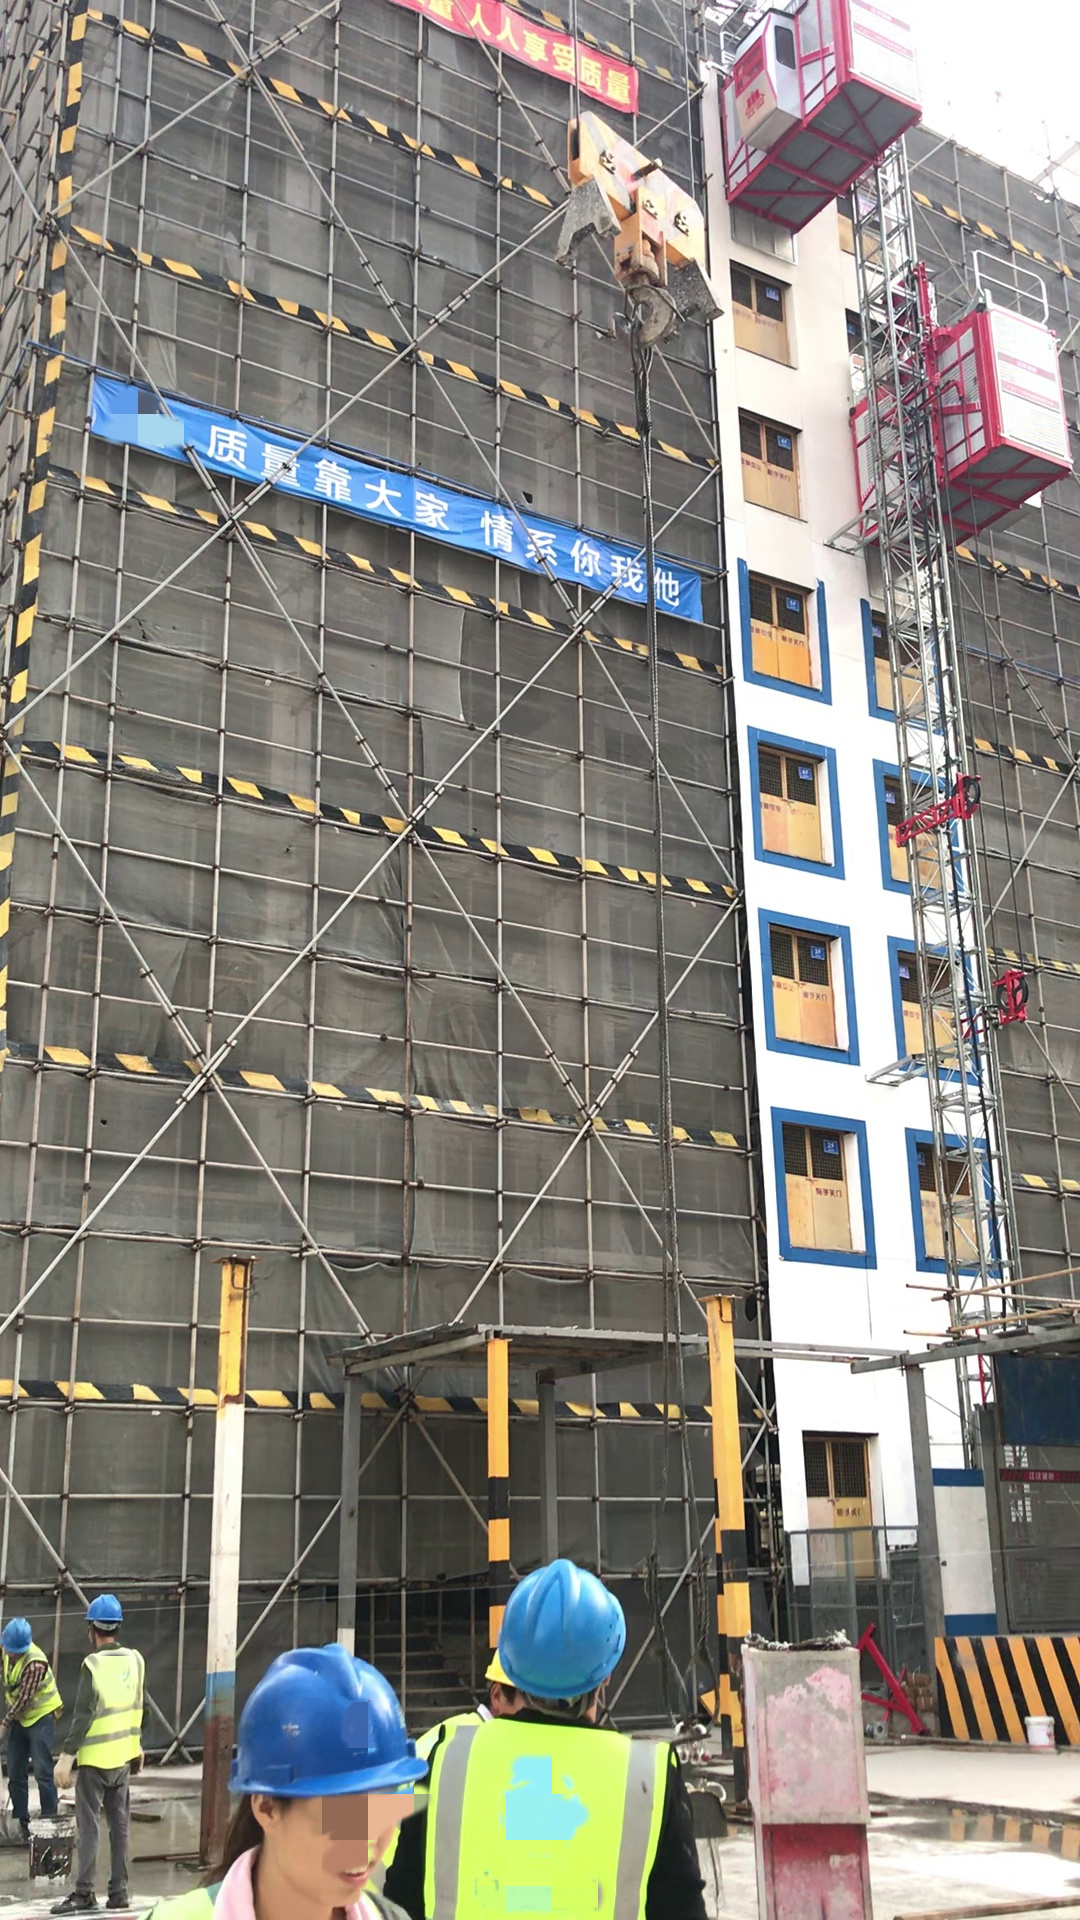helmet: (219, 1652, 429, 1793), (502, 1559, 627, 1702), (84, 1589, 135, 1624), (2, 1614, 44, 1656)
hook: (568, 113, 730, 341)
person: (417, 1551, 690, 1920), (153, 1651, 445, 1920), (57, 1581, 158, 1910), (1, 1612, 57, 1844), (431, 1640, 532, 1731)
slogan: (114, 372, 711, 622), (367, 1, 651, 109)
